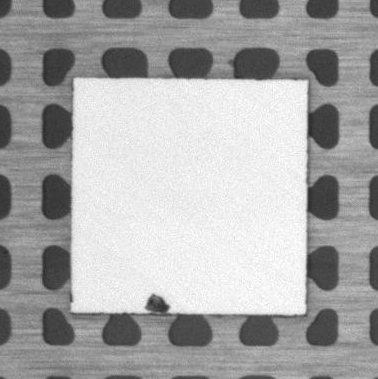DIE_INK: (143, 292, 170, 315)
